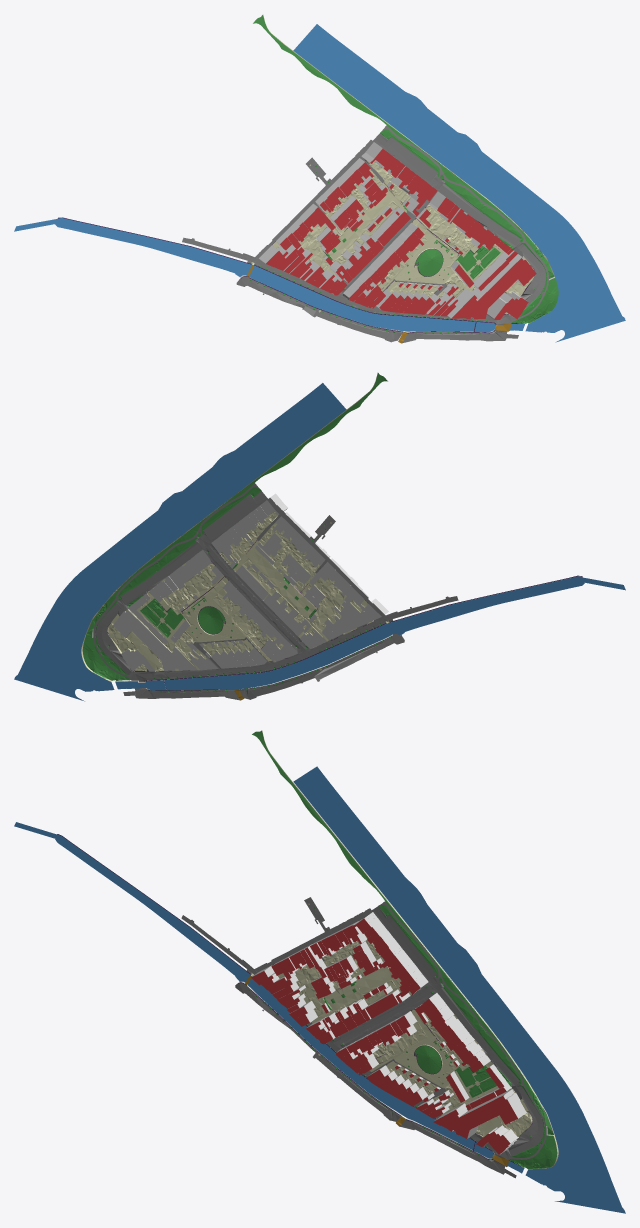
The model's file is myoutput.obj.
3 renders of one model, top to bottom at view 1: azimuth 30°, elevation 25°; view 2: azimuth 150°, elevation 25°; view 3: azimuth 330°, elevation 25°, orthographic.
Visible parts, largest first — view 1: b69a8d7bc-2d38-11e6-9a38-393caa90be70, bedab6302-00c8-11e6-b420-2bdcc4ab5d7f, b1105d28c-00ba-11e6-b420-2bdcc4ab5d7f, b2c160b4d-2d29-11e6-9a38-393caa90be70, b492abedc-00b4-11e6-b420-2bdcc4ab5d7f, b983a1b0d-00c9-11e6-b420-2bdcc4ab5d7f, b221e7287-00b5-11e6-b420-2bdcc4ab5d7f, b4138231e-00b4-11e6-b420-2bdcc4ab5d7f, b984231ca-00c9-11e6-b420-2bdcc4ab5d7f, b31be22bd-00ba-11e6-b420-2bdcc4ab5d7f, baef3f9c3-00c9-11e6-b420-2bdcc4ab5d7f, b1128007f-00ba-11e6-b420-2bdcc4ab5d7f (+10 smaller); view 2: b69a8d7bc-2d38-11e6-9a38-393caa90be70, bedab6302-00c8-11e6-b420-2bdcc4ab5d7f, b1105d28c-00ba-11e6-b420-2bdcc4ab5d7f, b2c160b4d-2d29-11e6-9a38-393caa90be70, b492abedc-00b4-11e6-b420-2bdcc4ab5d7f, b221e7287-00b5-11e6-b420-2bdcc4ab5d7f, b983a1b0d-00c9-11e6-b420-2bdcc4ab5d7f, b4138231e-00b4-11e6-b420-2bdcc4ab5d7f, b2223065e-00b5-11e6-b420-2bdcc4ab5d7f, b4931c302-00b4-11e6-b420-2bdcc4ab5d7f, b22250278-00b5-11e6-b420-2bdcc4ab5d7f, b984231ca-00c9-11e6-b420-2bdcc4ab5d7f (+14 smaller); view 3: b69a8d7bc-2d38-11e6-9a38-393caa90be70, bedab6302-00c8-11e6-b420-2bdcc4ab5d7f, b1105d28c-00ba-11e6-b420-2bdcc4ab5d7f, b2c160b4d-2d29-11e6-9a38-393caa90be70, b492abedc-00b4-11e6-b420-2bdcc4ab5d7f, b4138231e-00b4-11e6-b420-2bdcc4ab5d7f, b983a1b0d-00c9-11e6-b420-2bdcc4ab5d7f, b82575848-2d29-11e6-9a38-393caa90be70, b4931c302-00b4-11e6-b420-2bdcc4ab5d7f, b2223065e-00b5-11e6-b420-2bdcc4ab5d7f, baef3f9c3-00c9-11e6-b420-2bdcc4ab5d7f, b31be22bd-00ba-11e6-b420-2bdcc4ab5d7f.
Part boxes in pixels (x1,y1,x2,y2): b69a8d7bc-2d38-11e6-9a38-393caa90be70: (293,24,625,342); bedab6302-00c8-11e6-b420-2bdcc4ab5d7f: (14,218,475,331); b1105d28c-00ba-11e6-b420-2bdcc4ab5d7f: (447,254,536,319); b2c160b4d-2d29-11e6-9a38-393caa90be70: (253,15,534,248); b492abedc-00b4-11e6-b420-2bdcc4ab5d7f: (381,222,458,291); b983a1b0d-00c9-11e6-b420-2bdcc4ab5d7f: (255,140,384,258); b221e7287-00b5-11e6-b420-2bdcc4ab5d7f: (416,204,478,257); b4138231e-00b4-11e6-b420-2bdcc4ab5d7f: (322,182,407,273); b984231ca-00c9-11e6-b420-2bdcc4ab5d7f: (182,237,334,298); b31be22bd-00ba-11e6-b420-2bdcc4ab5d7f: (487,291,528,319); baef3f9c3-00c9-11e6-b420-2bdcc4ab5d7f: (404,331,518,342); b1128007f-00ba-11e6-b420-2bdcc4ab5d7f: (372,207,410,246); b69a8d7bc-2d38-11e6-9a38-393caa90be70: (14,383,346,701); bedab6302-00c8-11e6-b420-2bdcc4ab5d7f: (164,576,625,690); b1105d28c-00ba-11e6-b420-2bdcc4ab5d7f: (113,609,197,671); b2c160b4d-2d29-11e6-9a38-393caa90be70: (106,373,387,606); b492abedc-00b4-11e6-b420-2bdcc4ab5d7f: (182,580,271,661); b221e7287-00b5-11e6-b420-2bdcc4ab5d7f: (159,563,223,614); b983a1b0d-00c9-11e6-b420-2bdcc4ab5d7f: (256,498,385,616); b4138231e-00b4-11e6-b420-2bdcc4ab5d7f: (233,540,329,641); b2223065e-00b5-11e6-b420-2bdcc4ab5d7f: (312,577,346,631); b4931c302-00b4-11e6-b420-2bdcc4ab5d7f: (212,588,276,648); b22250278-00b5-11e6-b420-2bdcc4ab5d7f: (255,528,319,575); b984231ca-00c9-11e6-b420-2bdcc4ab5d7f: (304,596,458,657); b69a8d7bc-2d38-11e6-9a38-393caa90be70: (293,766,625,1213); bedab6302-00c8-11e6-b420-2bdcc4ab5d7f: (14,822,474,1149); b1105d28c-00ba-11e6-b420-2bdcc4ab5d7f: (433,1089,526,1138); b2c160b4d-2d29-11e6-9a38-393caa90be70: (252,730,533,1096); b492abedc-00b4-11e6-b420-2bdcc4ab5d7f: (369,1014,457,1088); b4138231e-00b4-11e6-b420-2bdcc4ab5d7f: (311,957,401,1023); b983a1b0d-00c9-11e6-b420-2bdcc4ab5d7f: (254,897,381,972); b82575848-2d29-11e6-9a38-393caa90be70: (262,730,554,1134); b4931c302-00b4-11e6-b420-2bdcc4ab5d7f: (373,1021,427,1063); b2223065e-00b5-11e6-b420-2bdcc4ab5d7f: (295,964,325,1016); baef3f9c3-00c9-11e6-b420-2bdcc4ab5d7f: (401,1120,516,1178); b31be22bd-00ba-11e6-b420-2bdcc4ab5d7f: (476,1125,518,1154).
Size of the model in its own units: 524 by 328 by 28.8.
